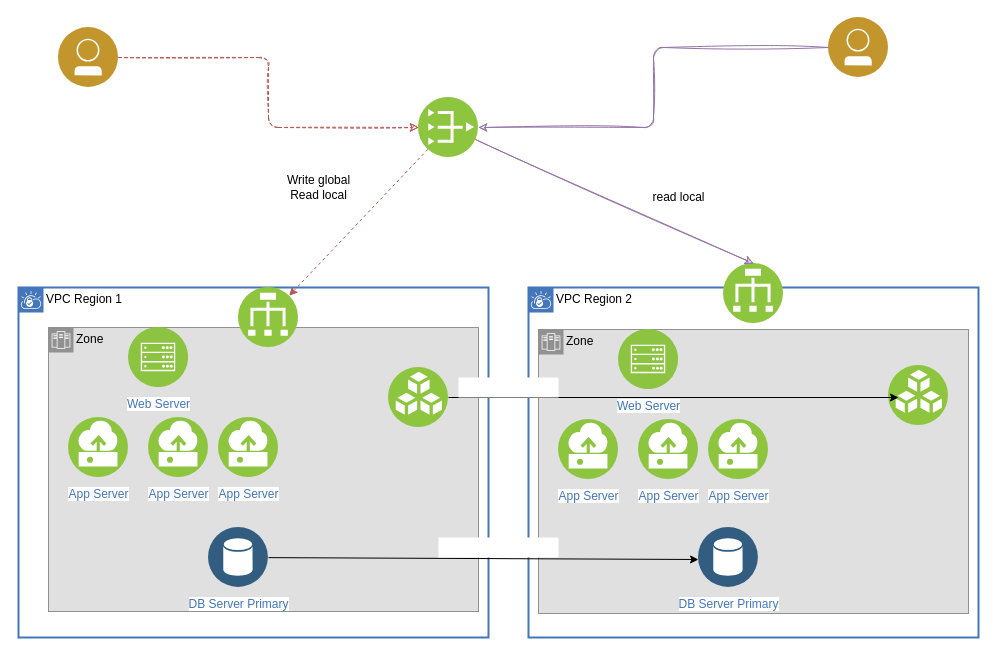
Image size: 996x655. Some labels were removed from this diagram. Each missing label, with the centre of its shape:
"AMI, config" belongs at pixel 418 397.
"DB synchronization" belongs at pixel 498 547.
"Snapshot synch" belongs at pixel 508 387.
